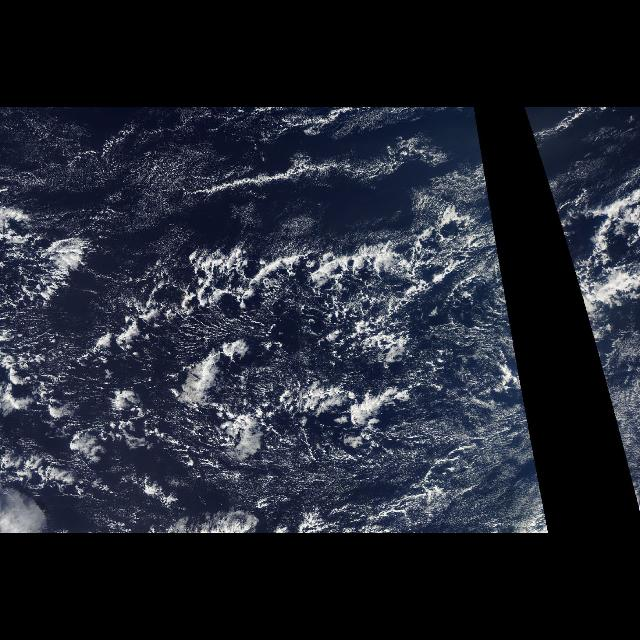Gravel: (102, 254, 432, 448)
Sugar: (28, 124, 476, 242)
